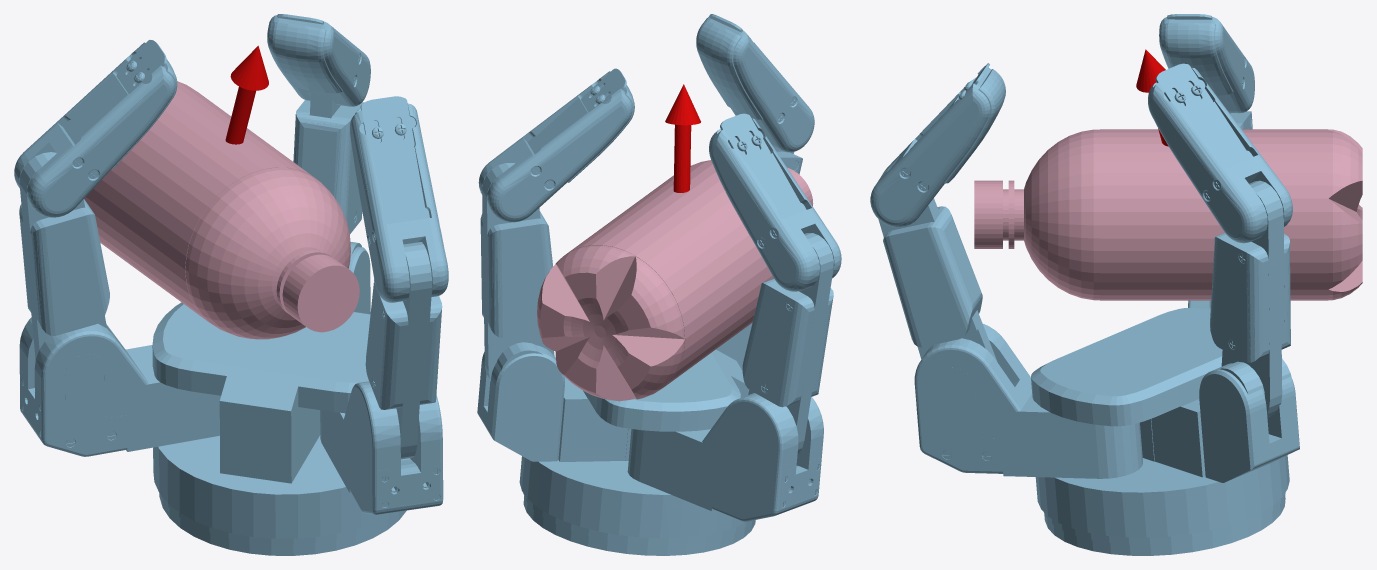
The picture shows the model from 3 angles, left to right: view 1: azimuth 30°, elevation 25°; view 2: azimuth 150°, elevation 25°; view 3: azimuth 270°, elevation 25°; orthographic projection. The views are drawn at different scales.
Parts seen in each view (by area): view 1: world, water_bottle.stl; view 2: world, water_bottle.stl; view 3: world, water_bottle.stl.
Boxes of the visible parts, box(x1,y1,x2,y2) form: world: box(14, 14, 448, 555); water_bottle.stl: box(84, 81, 359, 339); world: box(477, 14, 841, 555); water_bottle.stl: box(537, 160, 813, 401); world: box(870, 14, 1299, 555); water_bottle.stl: box(974, 129, 1362, 300).
Bounding box in the file's own units: 0.1418 × 0.1781 × 0.1731.
